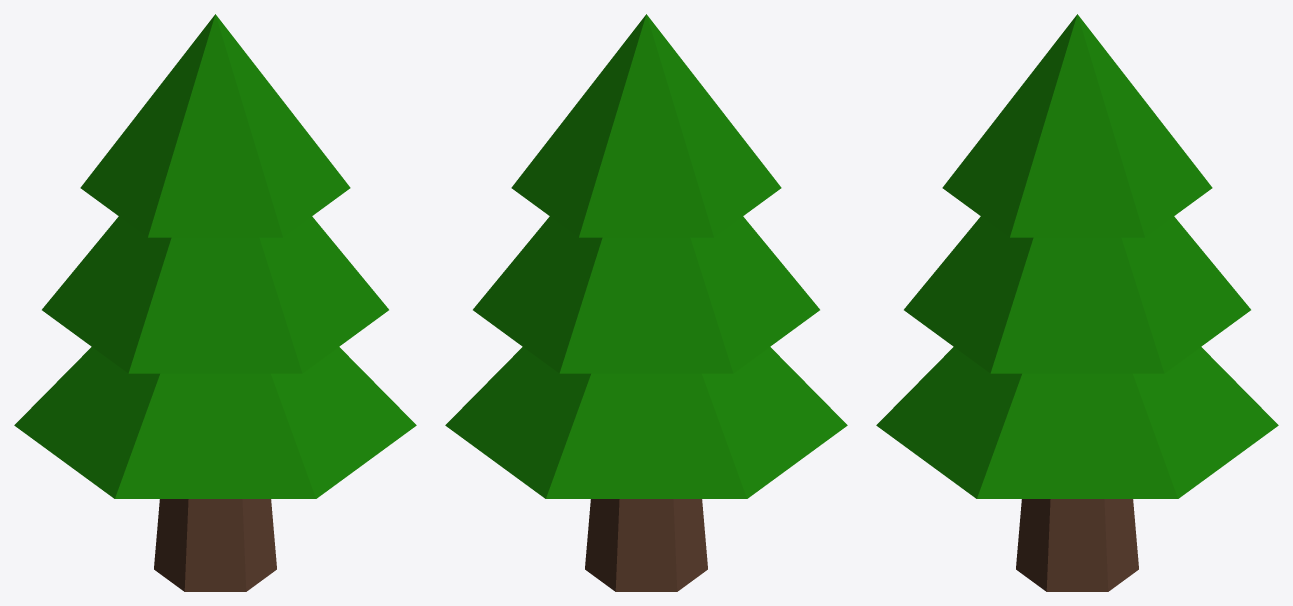
The model's file is Tree1.fbx.
3 views of the same model, side by side, from view 1: azimuth 30°, elevation 25°; view 2: azimuth 150°, elevation 25°; view 3: azimuth 270°, elevation 25° (orthographic).
Parts seen in each view (by area): view 1: Trees.001; view 2: Trees.001; view 3: Trees.001.
Boxes of the visible parts, x1,y1,x2,y2 form: Trees.001: (14,14,416,591); Trees.001: (445,14,847,591); Trees.001: (876,14,1278,591).
Bounding box in the file's own units: 50.1 × 88.02 × 57.85.
